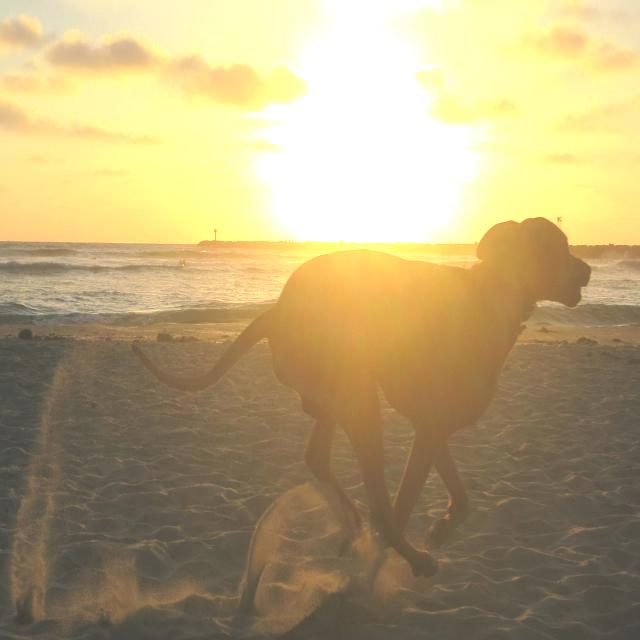Dog: (164, 174, 640, 593)
